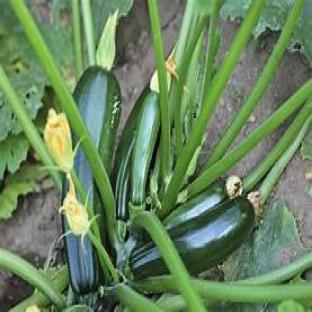Zucchini: (169, 198, 254, 273), (112, 88, 149, 220), (74, 66, 120, 172), (130, 92, 159, 214), (163, 181, 228, 229)
